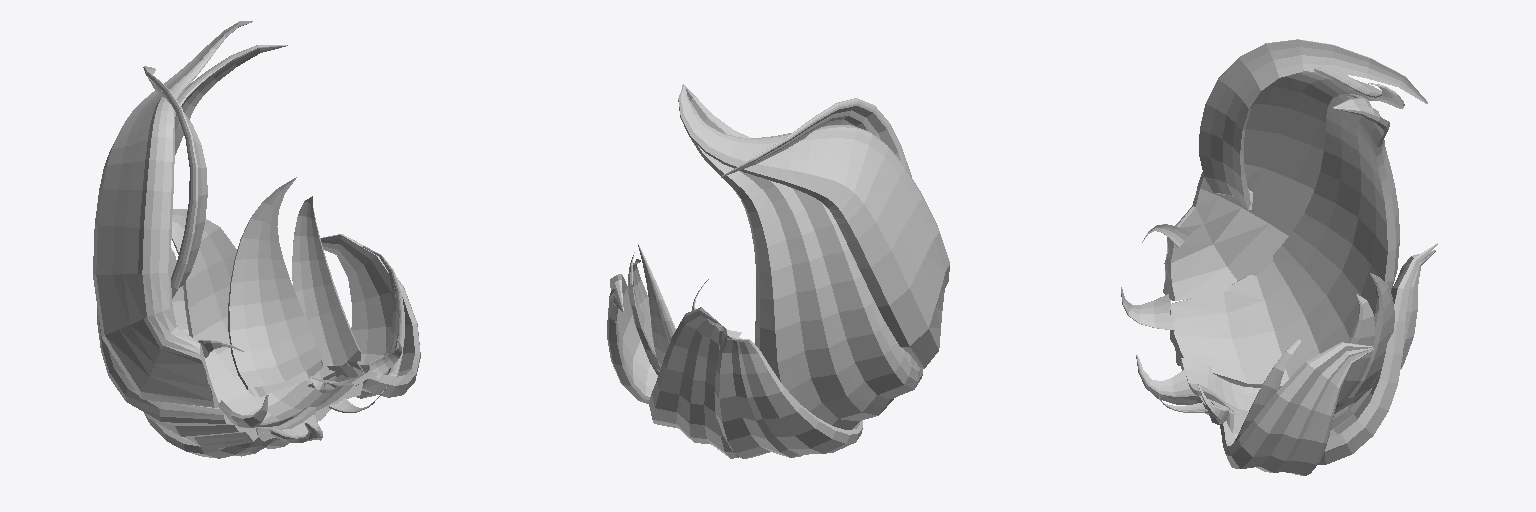
Rendered from hair_run0006.obj.
3 renders of one model, left to right at view 1: azimuth 30°, elevation 25°; view 2: azimuth 150°, elevation 25°; view 3: azimuth 270°, elevation 25°, orthographic.
Visible parts, largest first — view 1: NurbsPath.012; view 2: NurbsPath.012; view 3: NurbsPath.012.
Boxes of the visible parts, <box> form: NurbsPath.012: <box>93,21,420,458</box>; NurbsPath.012: <box>607,84,949,458</box>; NurbsPath.012: <box>1121,39,1437,475</box>.
Size of the model in its own units: 0.6105 by 0.7215 by 0.5401.